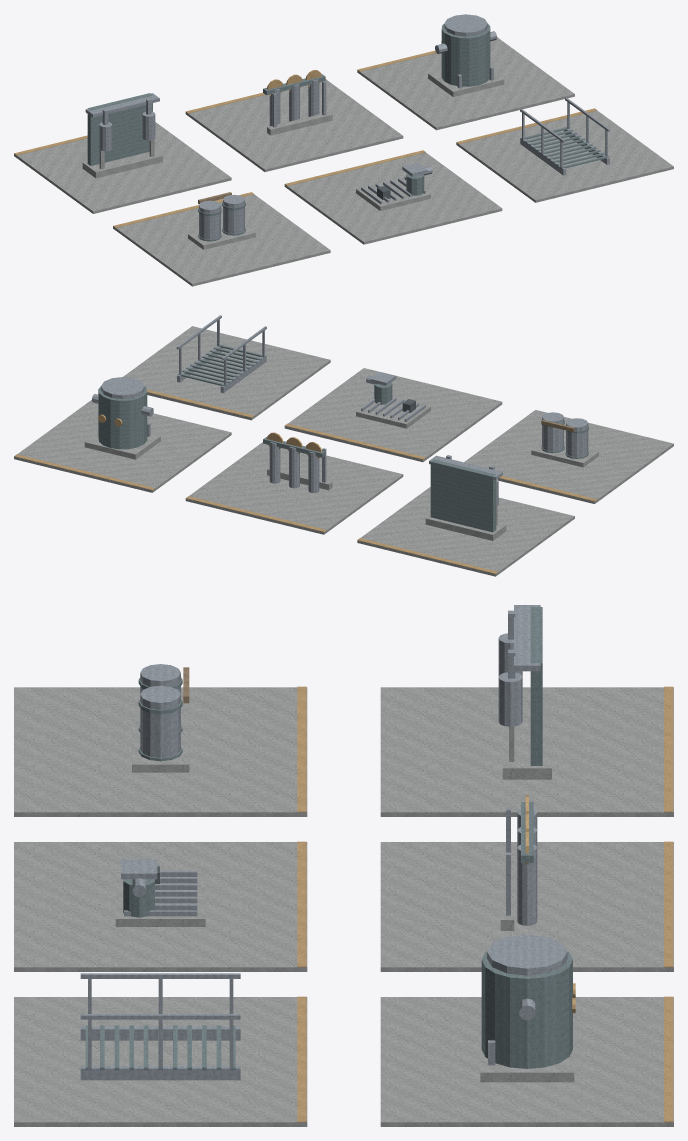
File: level_blockout_kit_wld_09_p02.glb
3 views of the same model, one above another, from view 1: azimuth 30°, elevation 25°; view 2: azimuth 150°, elevation 25°; view 3: azimuth 270°, elevation 25° (orthographic). The views are drawn at different scales.
Visible parts, largest first — view 1: level_blockout_kit_wld_09_p02; view 2: level_blockout_kit_wld_09_p02; view 3: level_blockout_kit_wld_09_p02.
Boxes of the visible parts, left/top/right/bottom form: level_blockout_kit_wld_09_p02: left=14, top=14, right=673, bottom=286; level_blockout_kit_wld_09_p02: left=14, top=315, right=673, bottom=576; level_blockout_kit_wld_09_p02: left=14, top=605, right=673, bottom=1126.
Size of the model in its own units: 19.65 by 2.58 by 12.6.
Materials: 6 (6 with a texture image).
